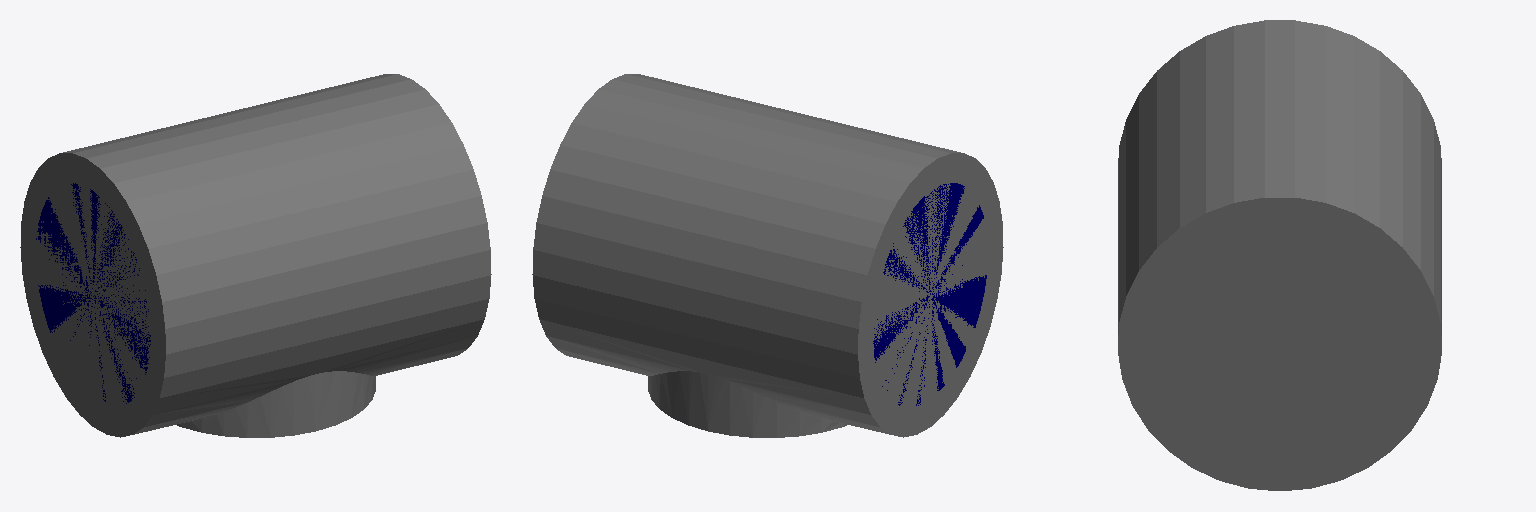
robot.urdf — corner_link-lm.SLDASM:
<?xml version="1.0" encoding="utf-8"?>
<!-- This URDF was automatically created by SolidWorks to URDF Exporter! Originally created by [author] ([email redacted]) 
     Commit Version: 1.6.0-4-g7f85cfe  Build Version: 1.6.7995.38578
     For more information, please see http://wiki.ros.org/sw_urdf_exporter -->
<robot
  name="corner_link-lm.SLDASM">
  <link
    name="cl_in_1">
    <inertial>
      <origin
        xyz="9.773E-09 -1.2003E-08 0.055754"
        rpy="0 0 0" />
      <mass
        value="1.5378" />
      <inertia
        ixx="0.0025767"
        ixy="1.529E-09"
        ixz="1.124E-09"
        iyy="0.0040307"
        iyz="-3.8294E-09"
        izz="0.0039765" />
    </inertial>
    <visual>
      <origin
        xyz="0 0 0"
        rpy="0 0 0" />
      <geometry>
        <mesh
          filename="package://corner_link-lm.SLDASM/meshes/cl_in_1.STL" />
      </geometry>
      <material
        name="blue">
        <color
          rgba="0 0 0.5 1" />
      </material>
    </visual>
    <collision>
      <origin
        xyz="0 0 0"
        rpy="0 0 0" />
      <geometry>
        <mesh
          filename="package://corner_link-lm.SLDASM/meshes/cl_in_1.STL" />
      </geometry>
    </collision>
  </link>
  <link
    name="cl_body">
    <inertial>
      <origin
        xyz="9.2117E-09 2.0894E-08 0.055754"
        rpy="0 0 0" />
      <mass
        value="1.5378" />
      <inertia
        ixx="0.0025767"
        ixy="1.529E-09"
        ixz="1.124E-09"
        iyy="0.0040307"
        iyz="-3.8294E-09"
        izz="0.0039765" />
    </inertial>
    <visual>
      <origin
        xyz="0 0 0"
        rpy="0 0 0" />
      <geometry>
        <mesh
          filename="package://corner_link-lm.SLDASM/meshes/cl_body.STL" />
      </geometry>
      <material
        name="body">
        <color
          rgba="0.5 0.5 0.5 1" />
      </material>
    </visual>
    <collision>
      <origin
        xyz="0 0 0"
        rpy="0 0 0" />
      <geometry>
        <mesh
          filename="package://corner_link-lm.SLDASM/meshes/cl_body.STL" />
      </geometry>
    </collision>
  </link>
  <joint
    name="cl_medium"
    type="fixed">
    <origin
      xyz="0 0 0"
      rpy="0 0 0" />
    <parent
      link="cl_in_1" />
    <child
      link="cl_body" />
    <axis
      xyz="0 0 0" />
  </joint>
  <link
    name="cl_in_2">
    <inertial>
      <origin
        xyz="0.0012458 -1.2003E-08 0.0735"
        rpy="0 0 0" />
      <mass
        value="1.5378" />
      <inertia
        ixx="0.0039765"
        ixy="3.8294E-09"
        ixz="-1.124E-09"
        iyy="0.0040307"
        iyz="1.529E-09"
        izz="0.0025767" />
    </inertial>
    <visual>
      <origin
        xyz="0 0 0"
        rpy="0 0 0" />
      <geometry>
        <mesh
          filename="package://corner_link-lm.SLDASM/meshes/cl_in_2.STL" />
      </geometry>
      <material
        name="blue">
        <color
          rgba="0 0 0.5 1" />
      </material>
    </visual>
    <collision>
      <origin
        xyz="0 0 0"
        rpy="0 0 0" />
      <geometry>
        <mesh
          filename="package://corner_link-lm.SLDASM/meshes/cl_in_2.STL" />
      </geometry>
    </collision>
  </link>
  <joint
    name="cl_large"
    type="fixed">
    <origin
      xyz="-0.0735 0 0.057"
      rpy="0 1.5707963267949 0" />
    <parent
      link="cl_body" />
    <child
      link="cl_in_2" />
    <axis
      xyz="0 0 0" />
  </joint>
</robot>

--- Facts derived from the render (not from the file) ---
3 views of the same robot in one strip: view 1: azimuth 30°, elevation 25°; view 2: azimuth 150°, elevation 25°; view 3: azimuth 270°, elevation 25° (orthographic).
Model corner_link-lm.SLDASM with 3 links and 2 joints (2 fixed), rooted at cl_in_1, posed all joints at 0.
Links seen in each view (by area): view 1: cl_body, cl_in_2; view 2: cl_body, cl_in_2; view 3: cl_body.
Boxes of the visible links, bbox=[...] form: cl_body: bbox=[20, 74, 491, 437]; cl_in_2: bbox=[36, 183, 150, 403]; cl_body: bbox=[532, 74, 1003, 437]; cl_in_2: bbox=[873, 183, 986, 405]; cl_body: bbox=[1118, 20, 1441, 490].
Size in the robot's own frame: 0.147 by 0.1139 by 0.1137 metres.
Meshes: 3 distinct files referenced, 3 mesh visuals loaded (3 binary STL).